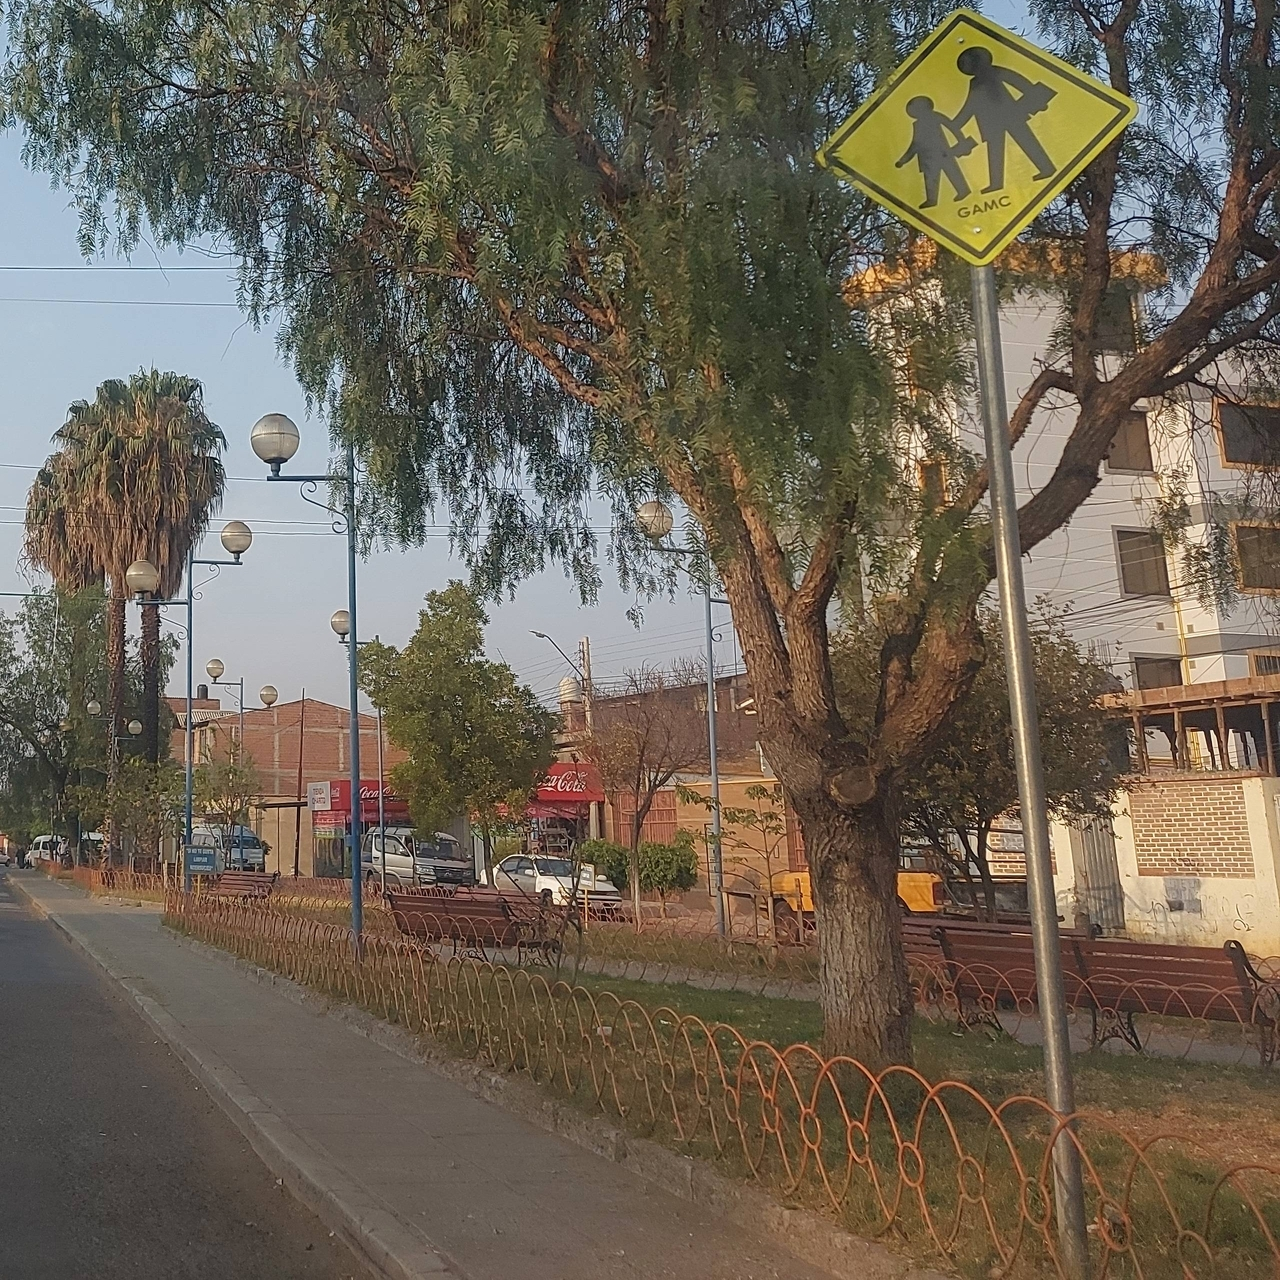zona-escolar: (808, 9, 1142, 271)
